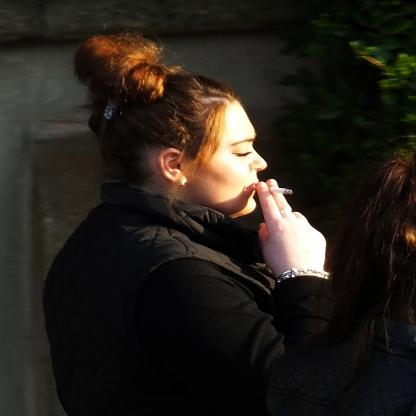smoking: (254, 186, 293, 194)
